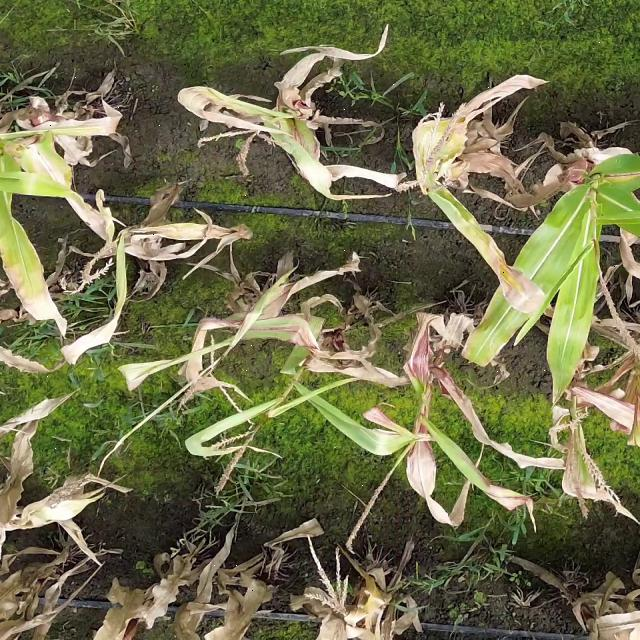northern-leaf-blight: (21, 139, 74, 191), (601, 158, 640, 190)
